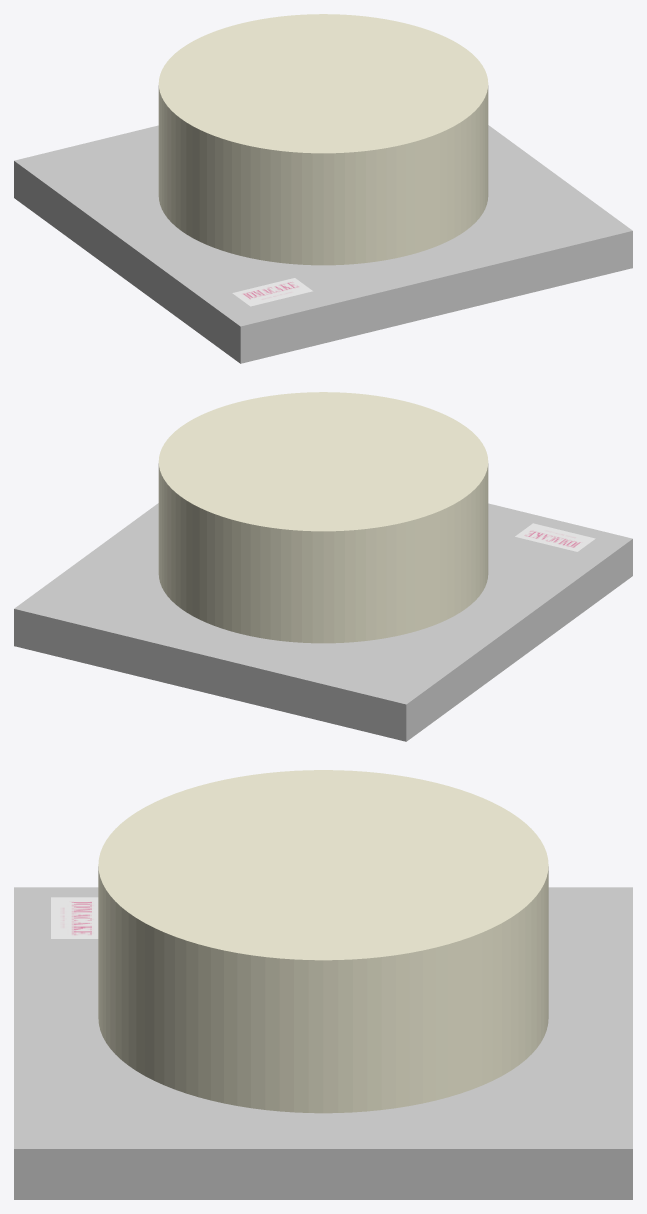
File: cake_6in_layers2_v33.glb
3 renders of one model, top to bottom at view 1: azimuth 30°, elevation 25°; view 2: azimuth 150°, elevation 25°; view 3: azimuth 270°, elevation 25°, orthographic. The views are drawn at different scales.
Parts seen in each view (by area): view 1: Cake, Board, Logo; view 2: Cake, Board, Logo; view 3: Cake, Board, Logo.
Part boxes in pixels (left/top/right/bottom): Cake: left=158, top=14, right=488, bottom=265; Board: left=14, top=125, right=632, bottom=363; Logo: left=232, top=278, right=312, bottom=306; Cake: left=158, top=392, right=488, bottom=643; Board: left=14, top=503, right=632, bottom=741; Logo: left=515, top=523, right=595, bottom=551; Cake: left=98, top=770, right=548, bottom=1113; Board: left=14, top=887, right=632, bottom=1199; Logo: left=51, top=897, right=98, bottom=938.
Bounding box in the file's own units: 0.22 × 0.08 × 0.22.
